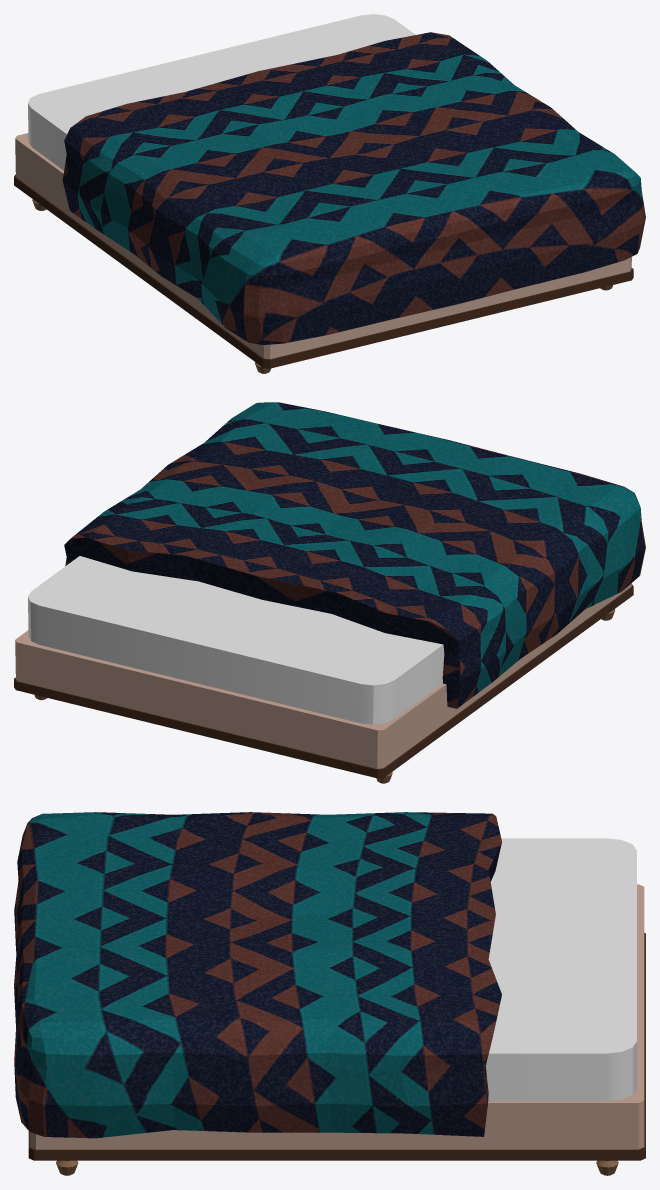
Rendered from bed_2.glb.
3 renders of one model, top to bottom at view 1: azimuth 30°, elevation 25°; view 2: azimuth 150°, elevation 25°; view 3: azimuth 270°, elevation 25°, orthographic. The views are drawn at different scales.
Parts seen in each view (by area): view 1: Bed (2) Sheets, Bed Base 1 (2), Bed (2) Ac; view 2: Bed (2) Sheets, Bed (2) Ac, Bed Base 1 (2); view 3: Bed (2) Sheets, Bed (2) Ac, Bed Base 1 (2).
Boxes of the visible parts, left/top/right/bottom form: Bed (2) Sheets: left=62, top=32, right=645, bottom=344; Bed Base 1 (2): left=14, top=133, right=633, bottom=373; Bed (2) Ac: left=28, top=14, right=415, bottom=170; Bed (2) Sheets: left=64, top=402, right=645, bottom=708; Bed (2) Ac: left=28, top=556, right=444, bottom=724; Bed Base 1 (2): left=14, top=583, right=633, bottom=783; Bed (2) Sheets: left=14, top=812, right=501, bottom=1138; Bed (2) Ac: left=486, top=838, right=636, bottom=1100; Bed Base 1 (2): left=28, top=884, right=645, bottom=1175.
Size of the model in its own units: 2.33 by 0.7272 by 2.57.
Materials: 3 (3 with a texture image).
